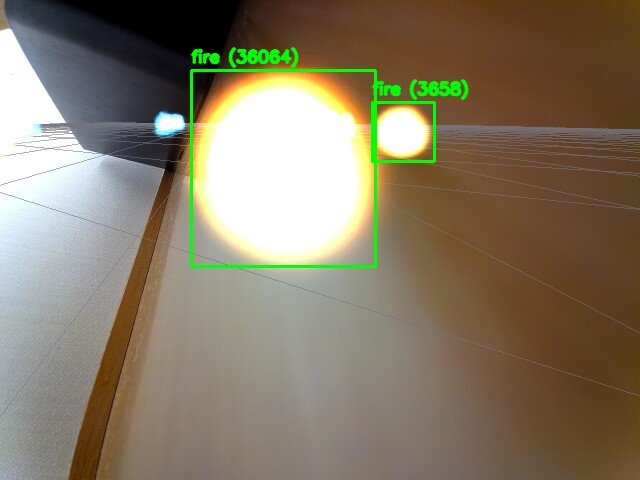fire: (191, 70, 375, 266), (372, 102, 434, 161)
